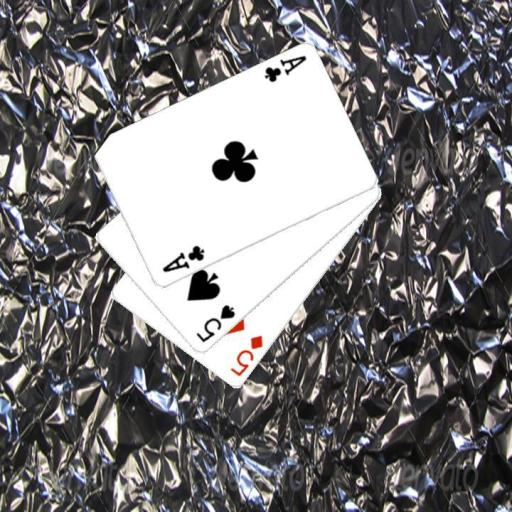5D: (227, 332, 264, 378)
5S: (193, 302, 237, 344)
AC: (159, 243, 206, 275), (261, 53, 308, 85)
